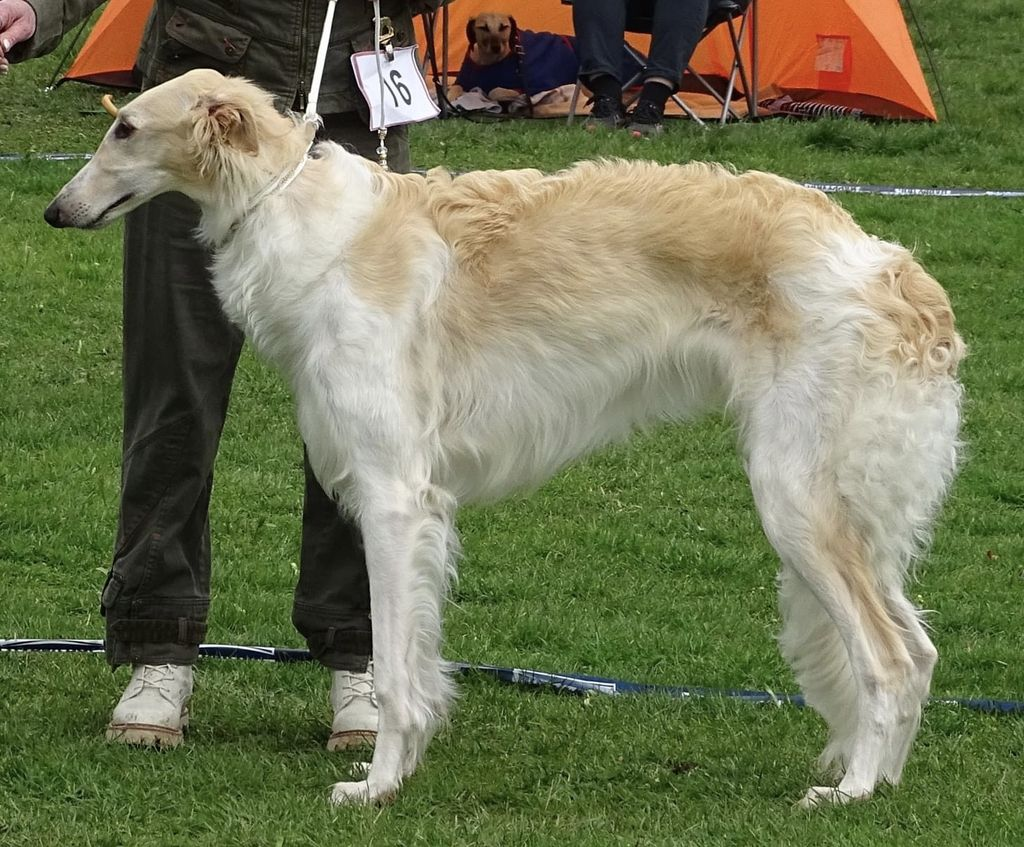borzoi: (27, 70, 973, 815)
